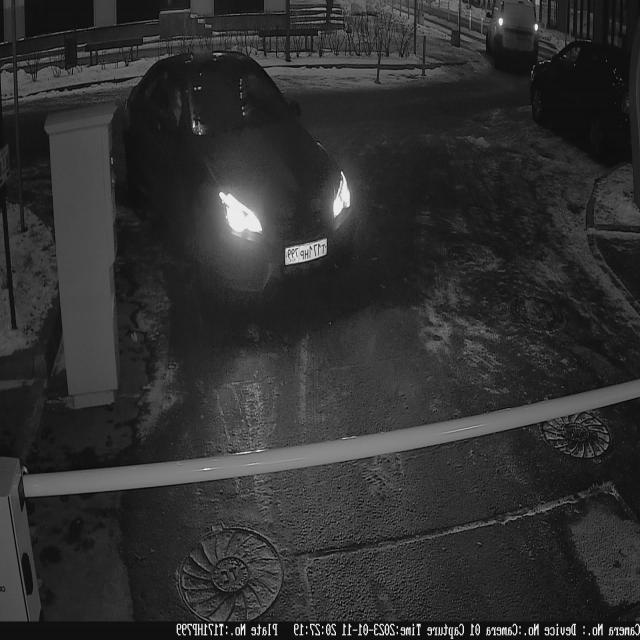car-plate-numbers: (285, 233, 331, 272)
